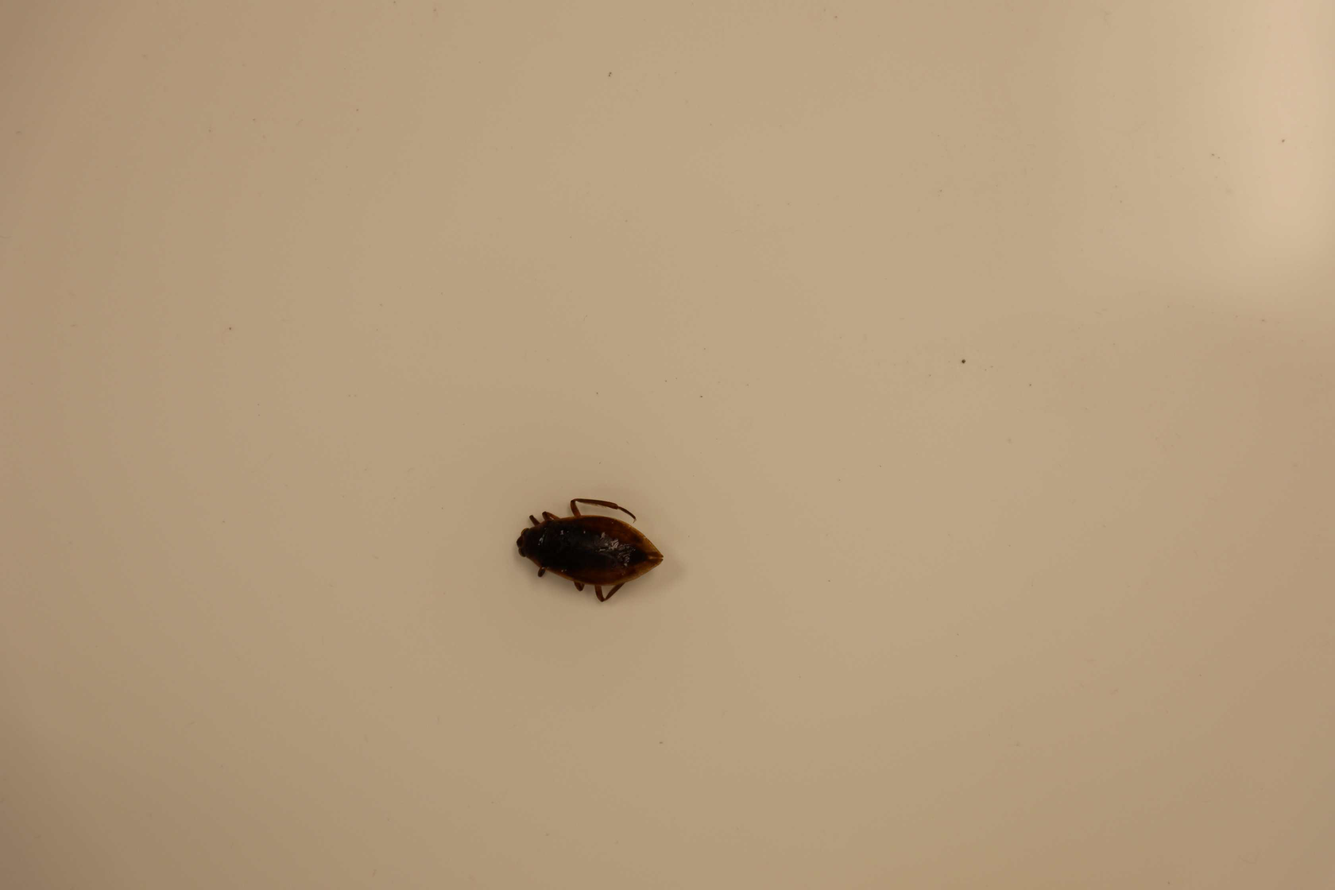Other: (509, 491, 664, 601)
